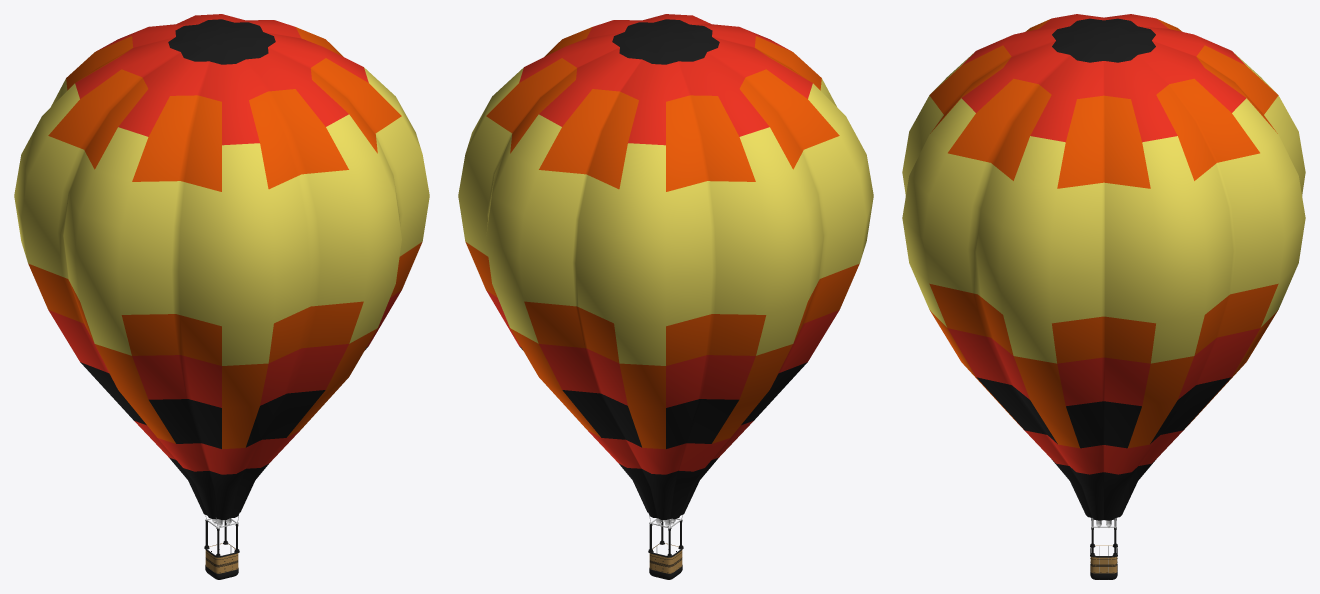
The model's file is airballoon.glb.
3 renders of one model, left to right at view 1: azimuth 30°, elevation 25°; view 2: azimuth 150°, elevation 25°; view 3: azimuth 270°, elevation 25°, orthographic.
Visible parts, largest first — view 1: Sphere_Sphere.002, Circle; view 2: Sphere_Sphere.002, Circle; view 3: Sphere_Sphere.002, Circle.
Boxes of the visible parts, x1,y1,x2,y2 form: Sphere_Sphere.002: (14,14,429,519); Circle: (204,515,239,579); Sphere_Sphere.002: (458,14,873,519); Circle: (648,515,683,579); Sphere_Sphere.002: (902,14,1305,520); Circle: (1090,518,1117,579).
Size of the model in its own units: 22.42 by 33.16 by 22.42.
